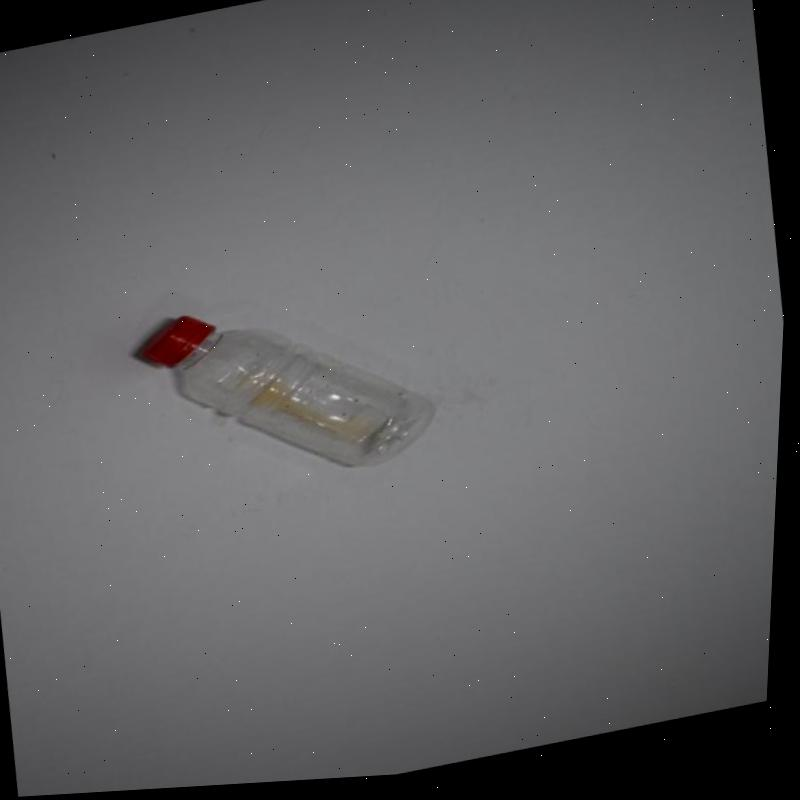botella: (131, 272, 449, 513)
